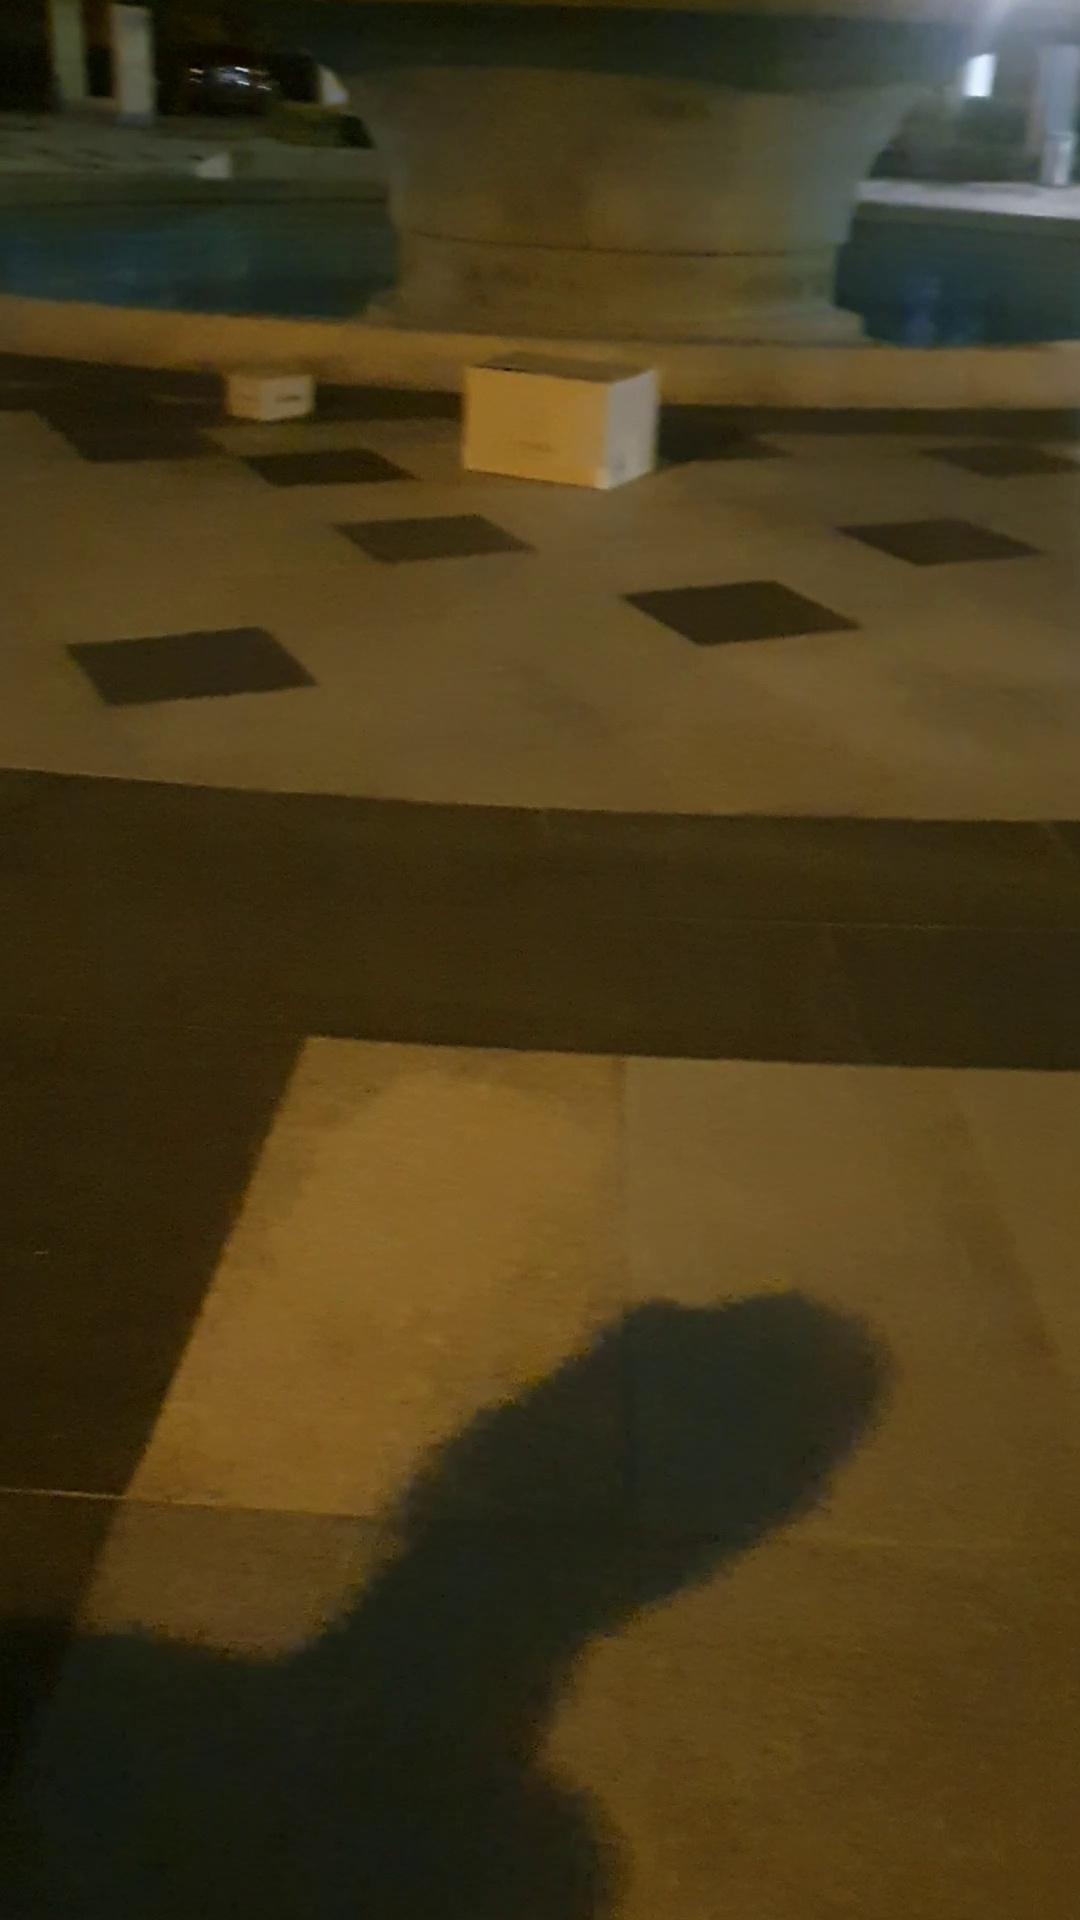Box: (458, 353, 665, 493), (206, 365, 324, 427)
